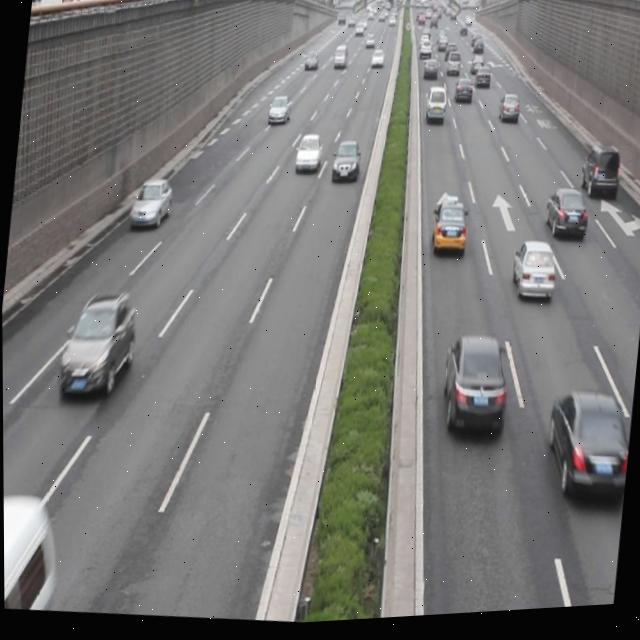car: (537, 387, 634, 515), (54, 287, 139, 402), (436, 335, 509, 443), (507, 244, 556, 310), (540, 191, 588, 252), (577, 144, 620, 210), (127, 176, 173, 230), (429, 203, 468, 263), (292, 134, 323, 178), (330, 142, 359, 186), (266, 96, 291, 132), (496, 96, 519, 131)
truck: (3, 485, 65, 613), (422, 90, 446, 130)
